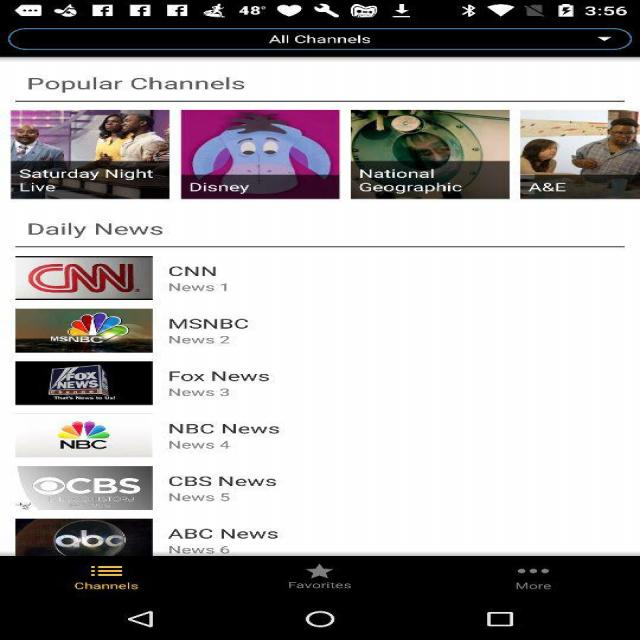button: (12, 114, 633, 202), (6, 302, 634, 356), (27, 351, 640, 401), (18, 508, 640, 557), (36, 456, 634, 505), (21, 258, 624, 302), (21, 420, 640, 452), (9, 25, 636, 53), (1, 557, 260, 604), (437, 550, 627, 599), (242, 560, 415, 600), (210, 594, 268, 602)
image: (2, 109, 640, 201), (4, 110, 161, 190), (202, 109, 333, 187), (508, 100, 618, 185), (339, 125, 493, 184), (24, 255, 172, 287), (24, 509, 135, 549), (10, 309, 150, 339), (1, 417, 138, 447), (27, 361, 147, 393), (32, 461, 140, 493)
text: (32, 75, 269, 104), (19, 213, 192, 251), (160, 413, 257, 455), (155, 309, 262, 347), (155, 358, 274, 392), (164, 526, 283, 557), (152, 257, 243, 289), (179, 464, 262, 496)
